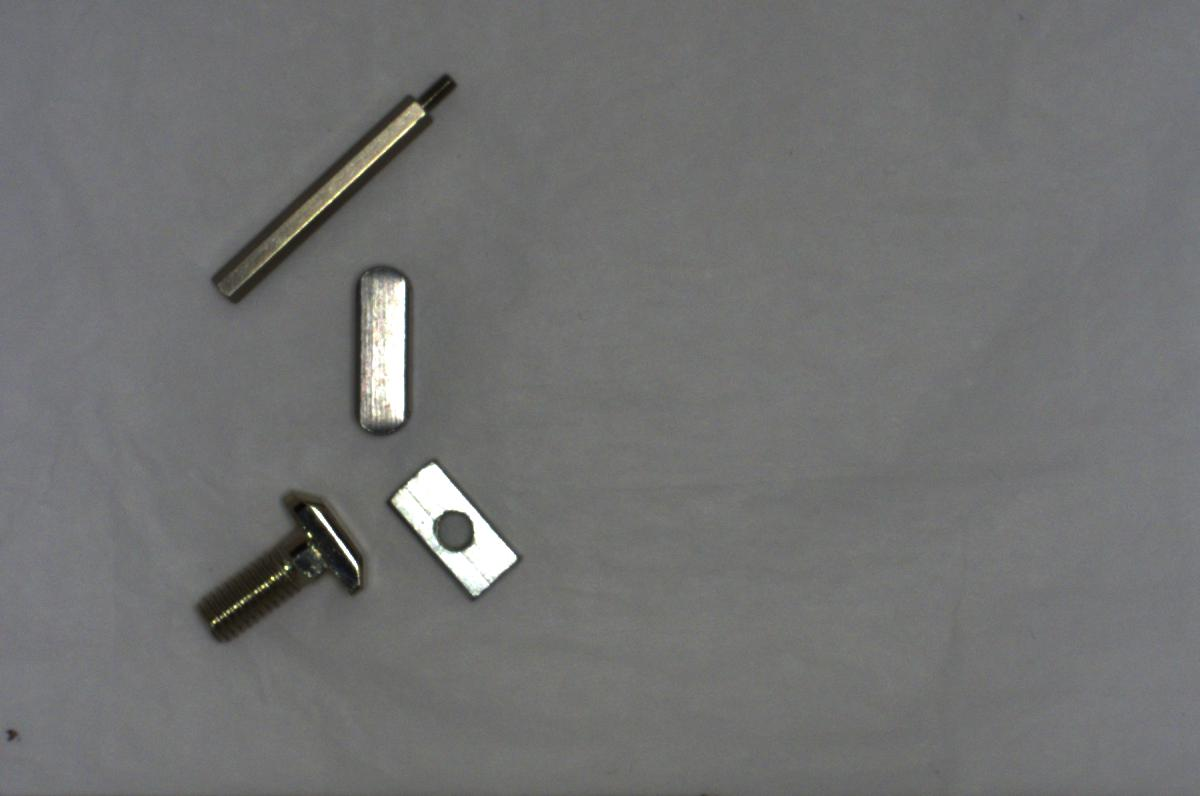Hexagonal steel column: (207, 65, 459, 307)
Keybar: (341, 252, 421, 438)
Rectangular nut: (387, 458, 530, 602)
T-shaped screw: (187, 482, 373, 649)
